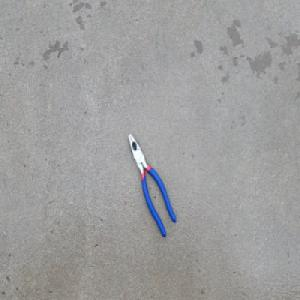Pliers: (127, 130, 177, 239)
